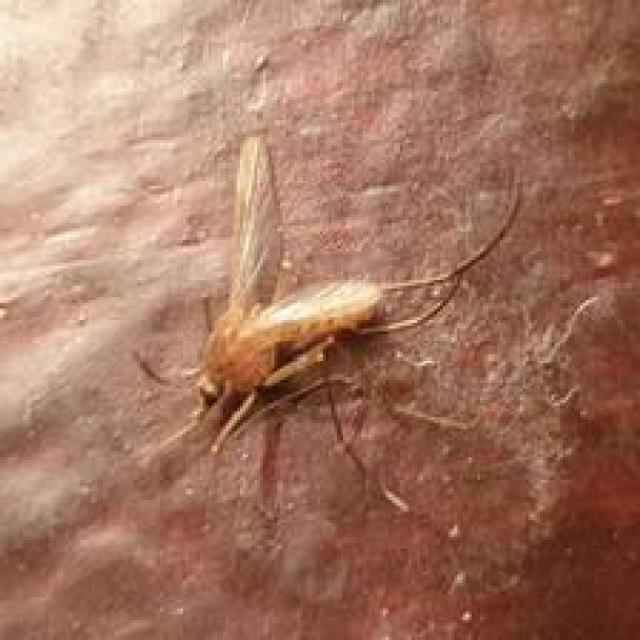Culex: (134, 133, 523, 513)
